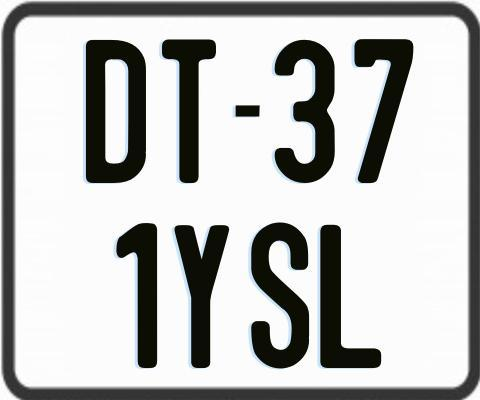1: (113, 221, 157, 369)
3: (275, 37, 341, 185)
7: (354, 36, 414, 181)
D: (83, 40, 149, 186)
L: (320, 224, 385, 371)
S: (251, 220, 312, 369)
T: (161, 37, 215, 184)
Y: (172, 222, 229, 371)
